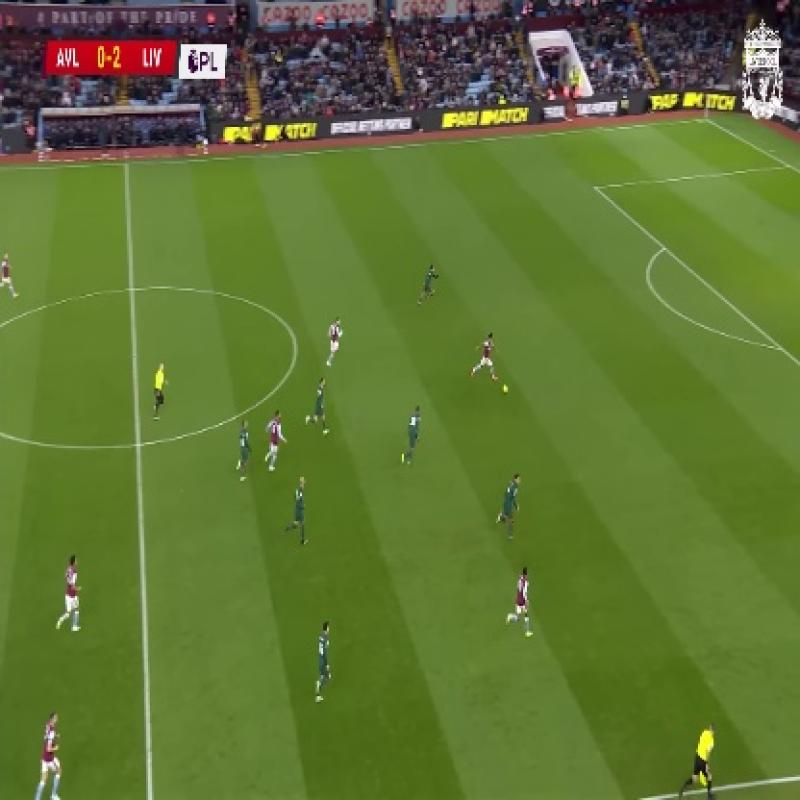1: (692, 110, 711, 127)
10: (654, 234, 673, 258)
11: (770, 332, 788, 358)
13: (118, 152, 134, 175)
14: (116, 271, 144, 304)
15: (123, 425, 148, 462)
2: (778, 154, 796, 175)
9: (585, 175, 604, 198)
c: (280, 328, 309, 356)
